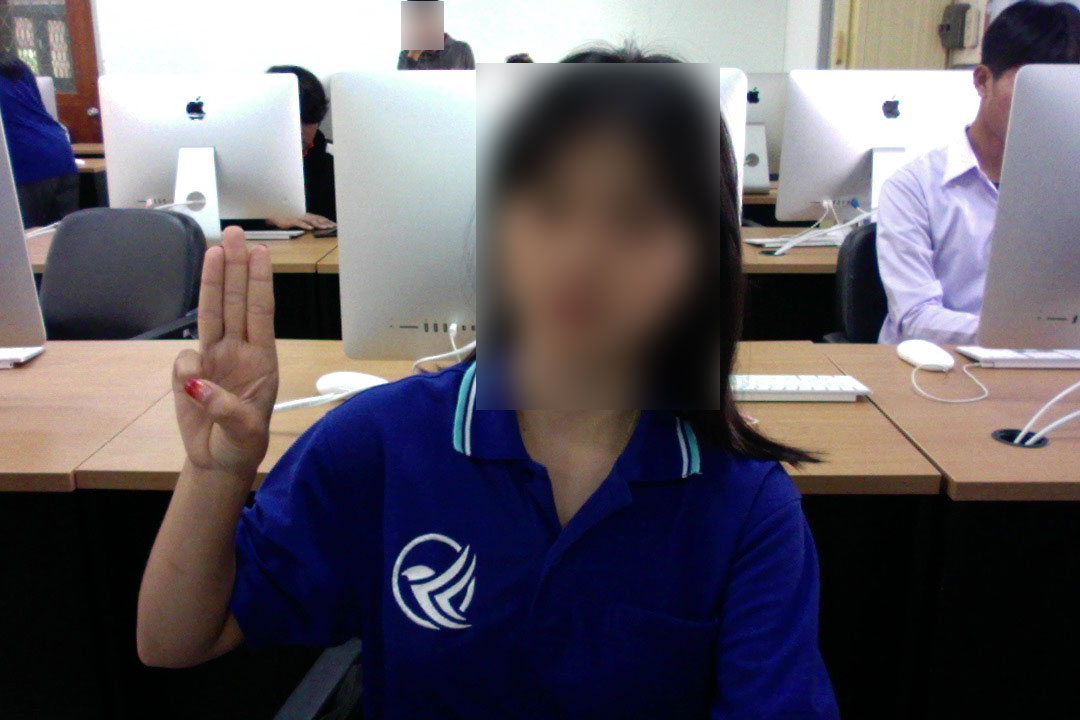wor: (153, 225, 312, 487)
